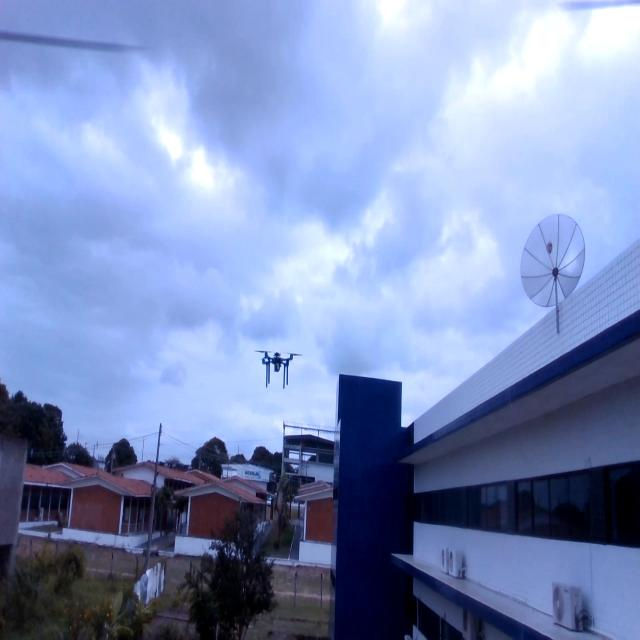-uav-: (252, 329, 301, 397)
